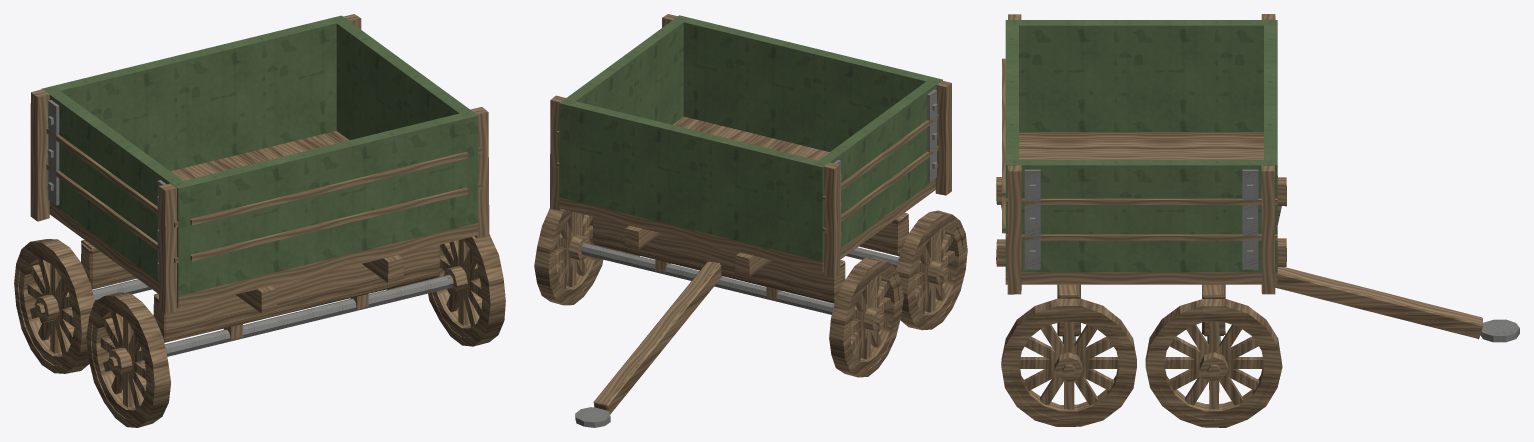
The model's file is wagon_trailer.glb.
3 views of the same model, side by side, from view 1: azimuth 30°, elevation 25°; view 2: azimuth 150°, elevation 25°; view 3: azimuth 270°, elevation 25° (orthographic). The views are drawn at different scales.
Visible parts, largest first — view 1: WagonTrailer, Tailgate, Wheel_L2, Wheel_L1, Wheel_R2; view 2: WagonTrailer, Tailgate, Wheel_L1, Wheel_L2, Wheel_R1, Coupler; view 3: WagonTrailer, Wheel_R2, Wheel_R1, Tailgate, Coupler.
Boxes of the visible parts, x1,y1,x2,y2 form: WagonTrailer: (30, 14, 489, 356); Tailgate: (184, 113, 466, 292); Wheel_L2: (86, 292, 170, 427); Wheel_L1: (14, 239, 94, 373); Wheel_R2: (425, 234, 505, 346); WagonTrailer: (550, 14, 951, 414); Tailgate: (683, 18, 931, 151); Wheel_L1: (829, 257, 903, 377); Wheel_L2: (896, 210, 967, 330); Wheel_R1: (534, 208, 605, 305); Coupler: (575, 407, 610, 427); WagonTrailer: (996, 14, 1482, 343); Wheel_R2: (1001, 298, 1136, 426); Wheel_R1: (1145, 299, 1282, 427); Tailgate: (1005, 25, 1018, 159); Coupler: (1480, 319, 1519, 342).
Bounding box in the file's own units: 2.63 × 1.71 × 3.24.
3 materials, 3 textured.
